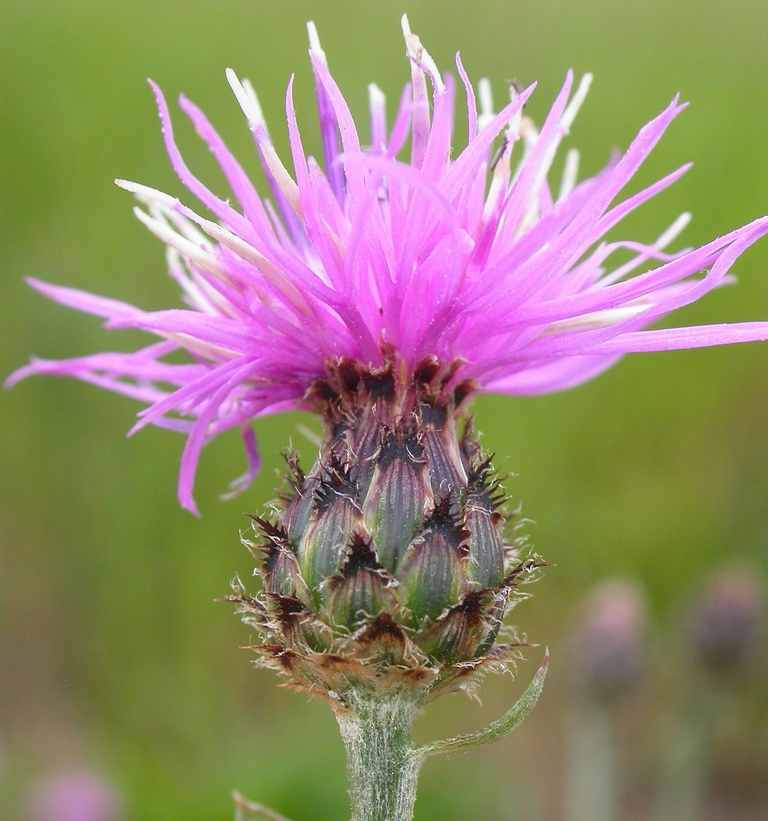thistle: (95, 27, 734, 702)
